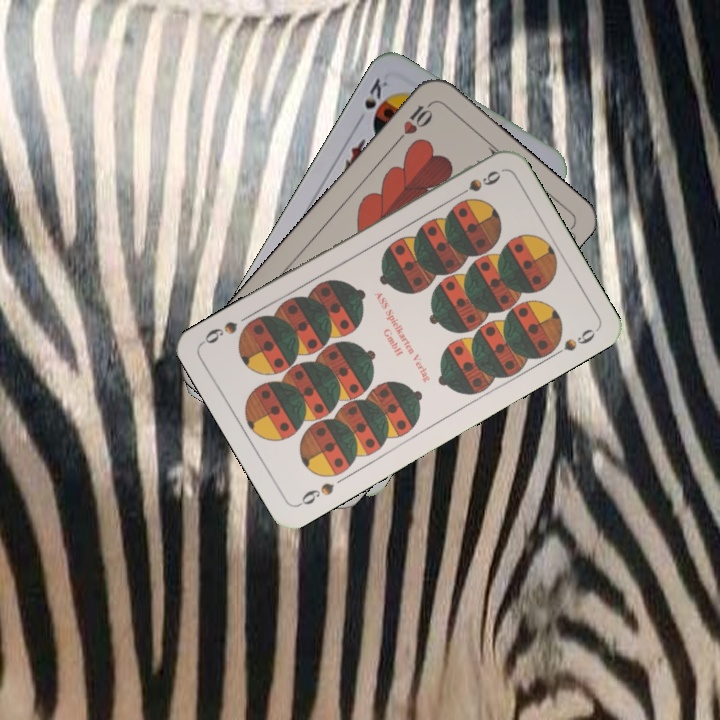H10: (391, 98, 436, 147)
S9: (449, 166, 504, 202), (294, 478, 337, 509)
SK: (360, 73, 391, 112)
